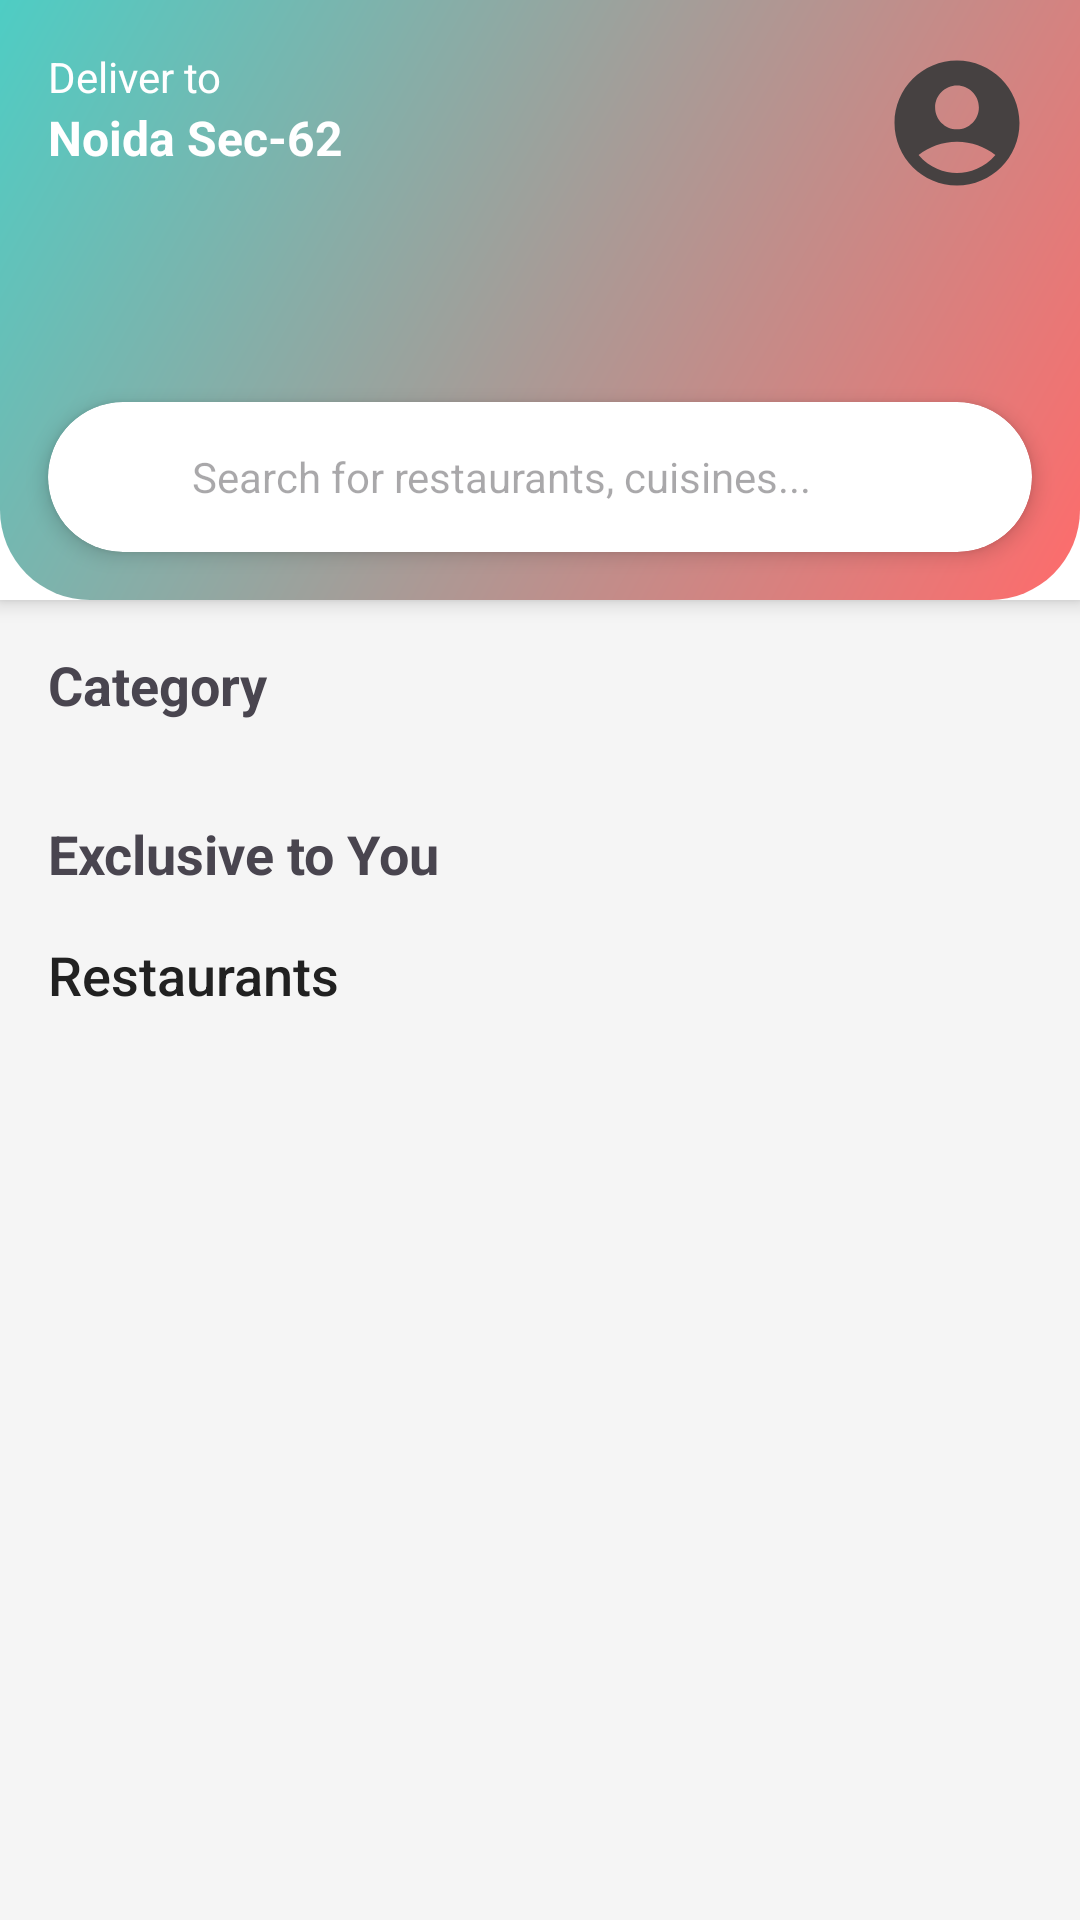

Screen size 1080 × 1920. Icon name, then its center in pixels as [x,y]:
profile: [957,123]
